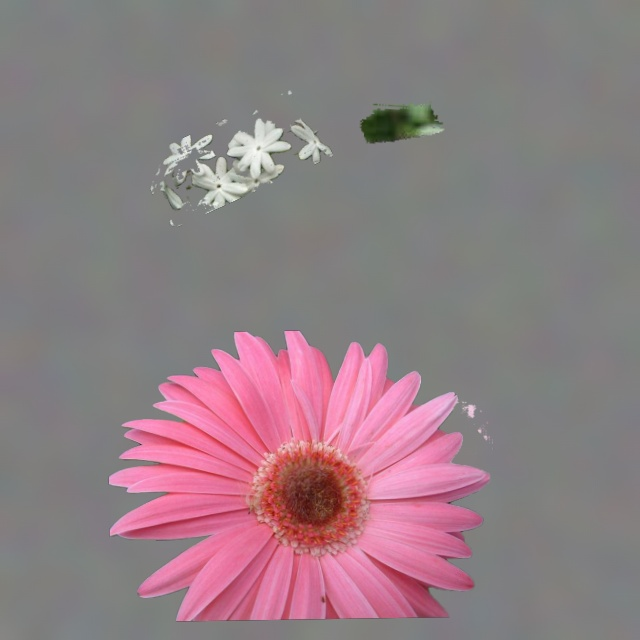daisy: (109, 331, 489, 620)
jasmine: (150, 91, 332, 225)
ylang-ylang: (360, 102, 443, 143)
